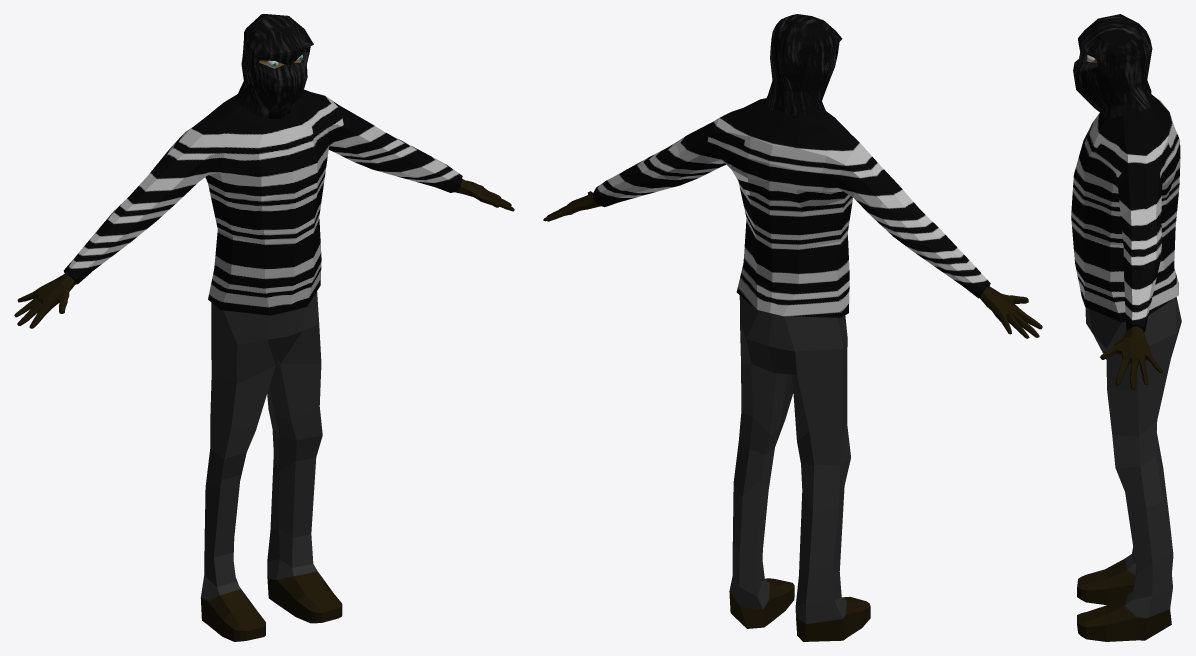
Rendered from Theif_Partner.fbx.
3 views of the same model, side by side, from view 1: azimuth 30°, elevation 25°; view 2: azimuth 150°, elevation 25°; view 3: azimuth 270°, elevation 25° (orthographic).
Parts seen in each view (by area): view 1: polySurface5; view 2: polySurface5; view 3: polySurface5.
Boxes of the visible parts, bbox=[...] form: polySurface5: bbox=[14, 14, 514, 641]; polySurface5: bbox=[543, 14, 1042, 641]; polySurface5: bbox=[1071, 14, 1181, 641].
Size of the model in its own units: 504 by 586 by 98.81.
Materials: 1 (1 with a texture image).
